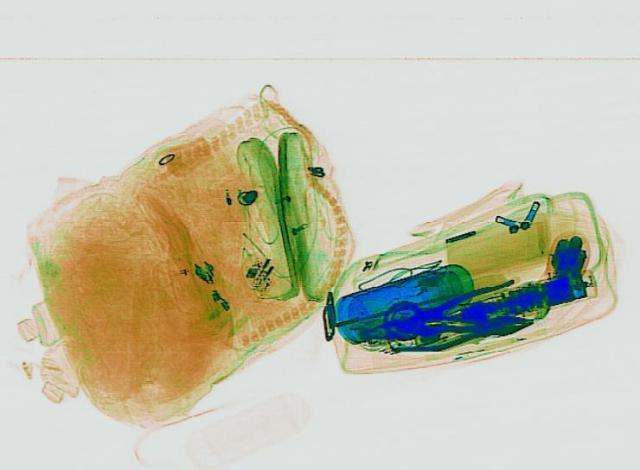Pliers: (384, 276, 532, 345), (379, 301, 536, 354)
